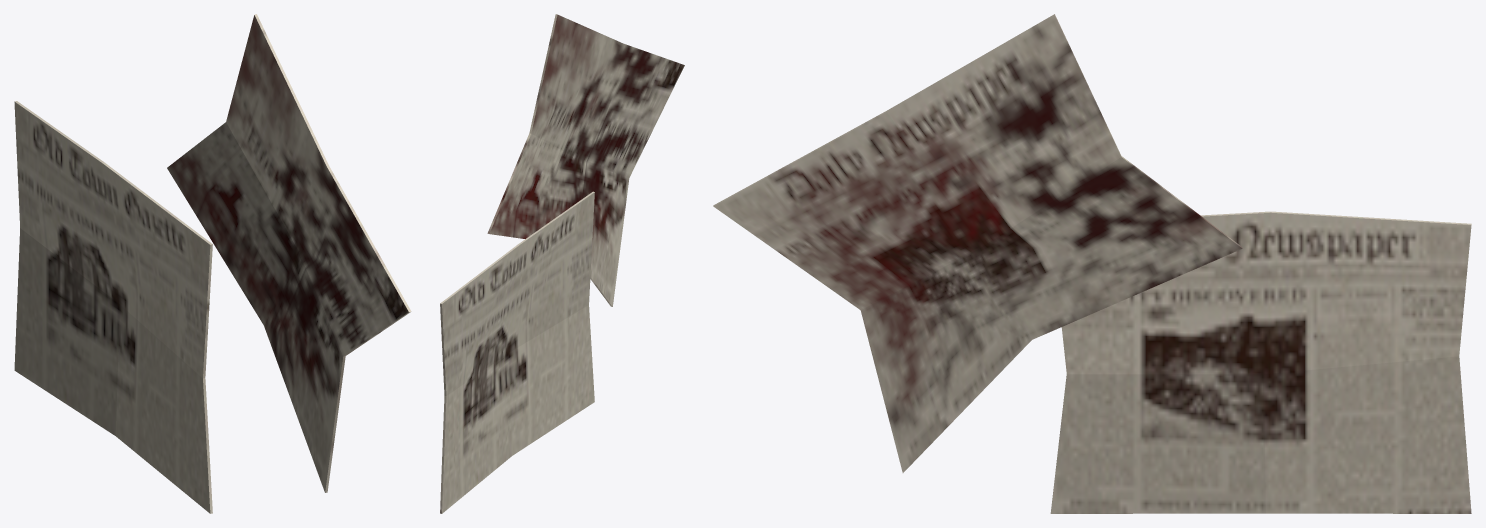
Rendered from newspaper.glb.
The picture shows the model from 3 angles, left to right: view 1: azimuth 30°, elevation 25°; view 2: azimuth 150°, elevation 25°; view 3: azimuth 270°, elevation 25°; orthographic projection. The views are drawn at different scales.
Visible parts, largest first — view 1: Plane.001, Plane; view 2: Plane.001, Plane; view 3: Plane.001, Plane.
Part boxes in pixels (x1=…): Plane.001: x1=14, y1=101, x2=212, y2=513; Plane: x1=167, y1=14, x2=411, y2=492; Plane.001: x1=440, y1=191, x2=594, y2=513; Plane: x1=487, y1=14, x2=684, y2=306; Plane.001: x1=1050, y1=211, x2=1471, y2=513; Plane: x1=713, y1=14, x2=1242, y2=472.
Bounding box in the file's own units: 0.2543 × 1.87 × 2.46.
Materials: 2 (2 with a texture image).
